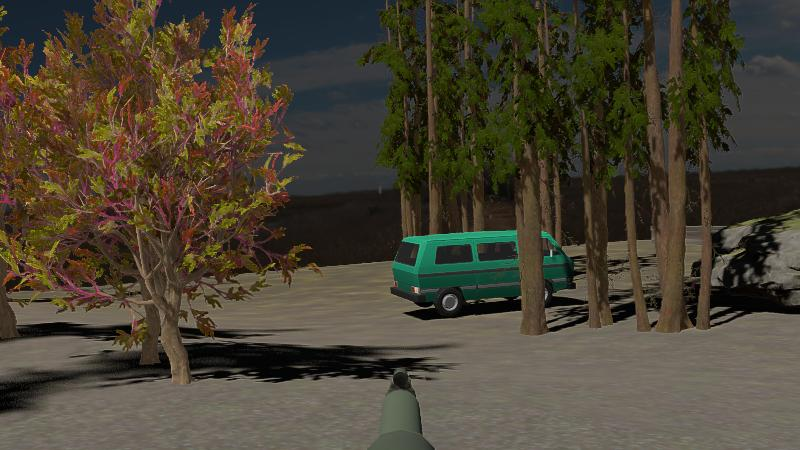car: (391, 228, 577, 318)
